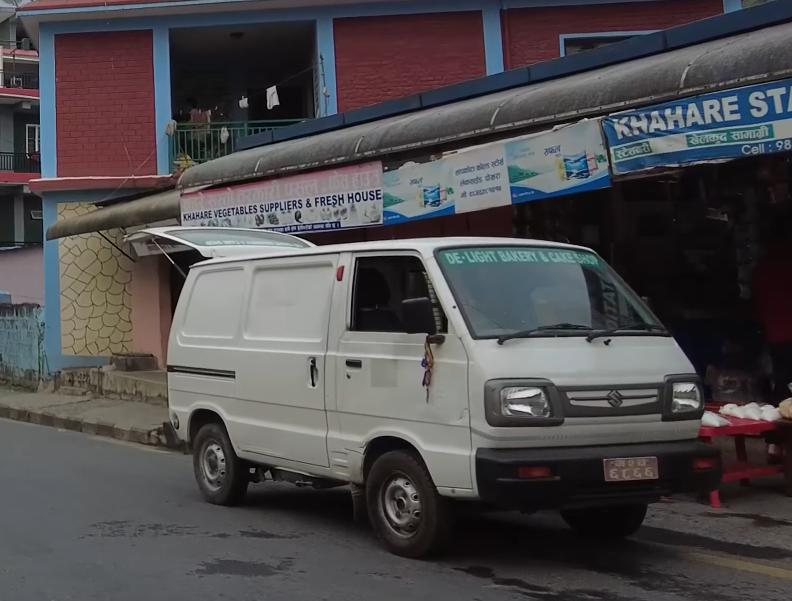van: (129, 234, 728, 571)
